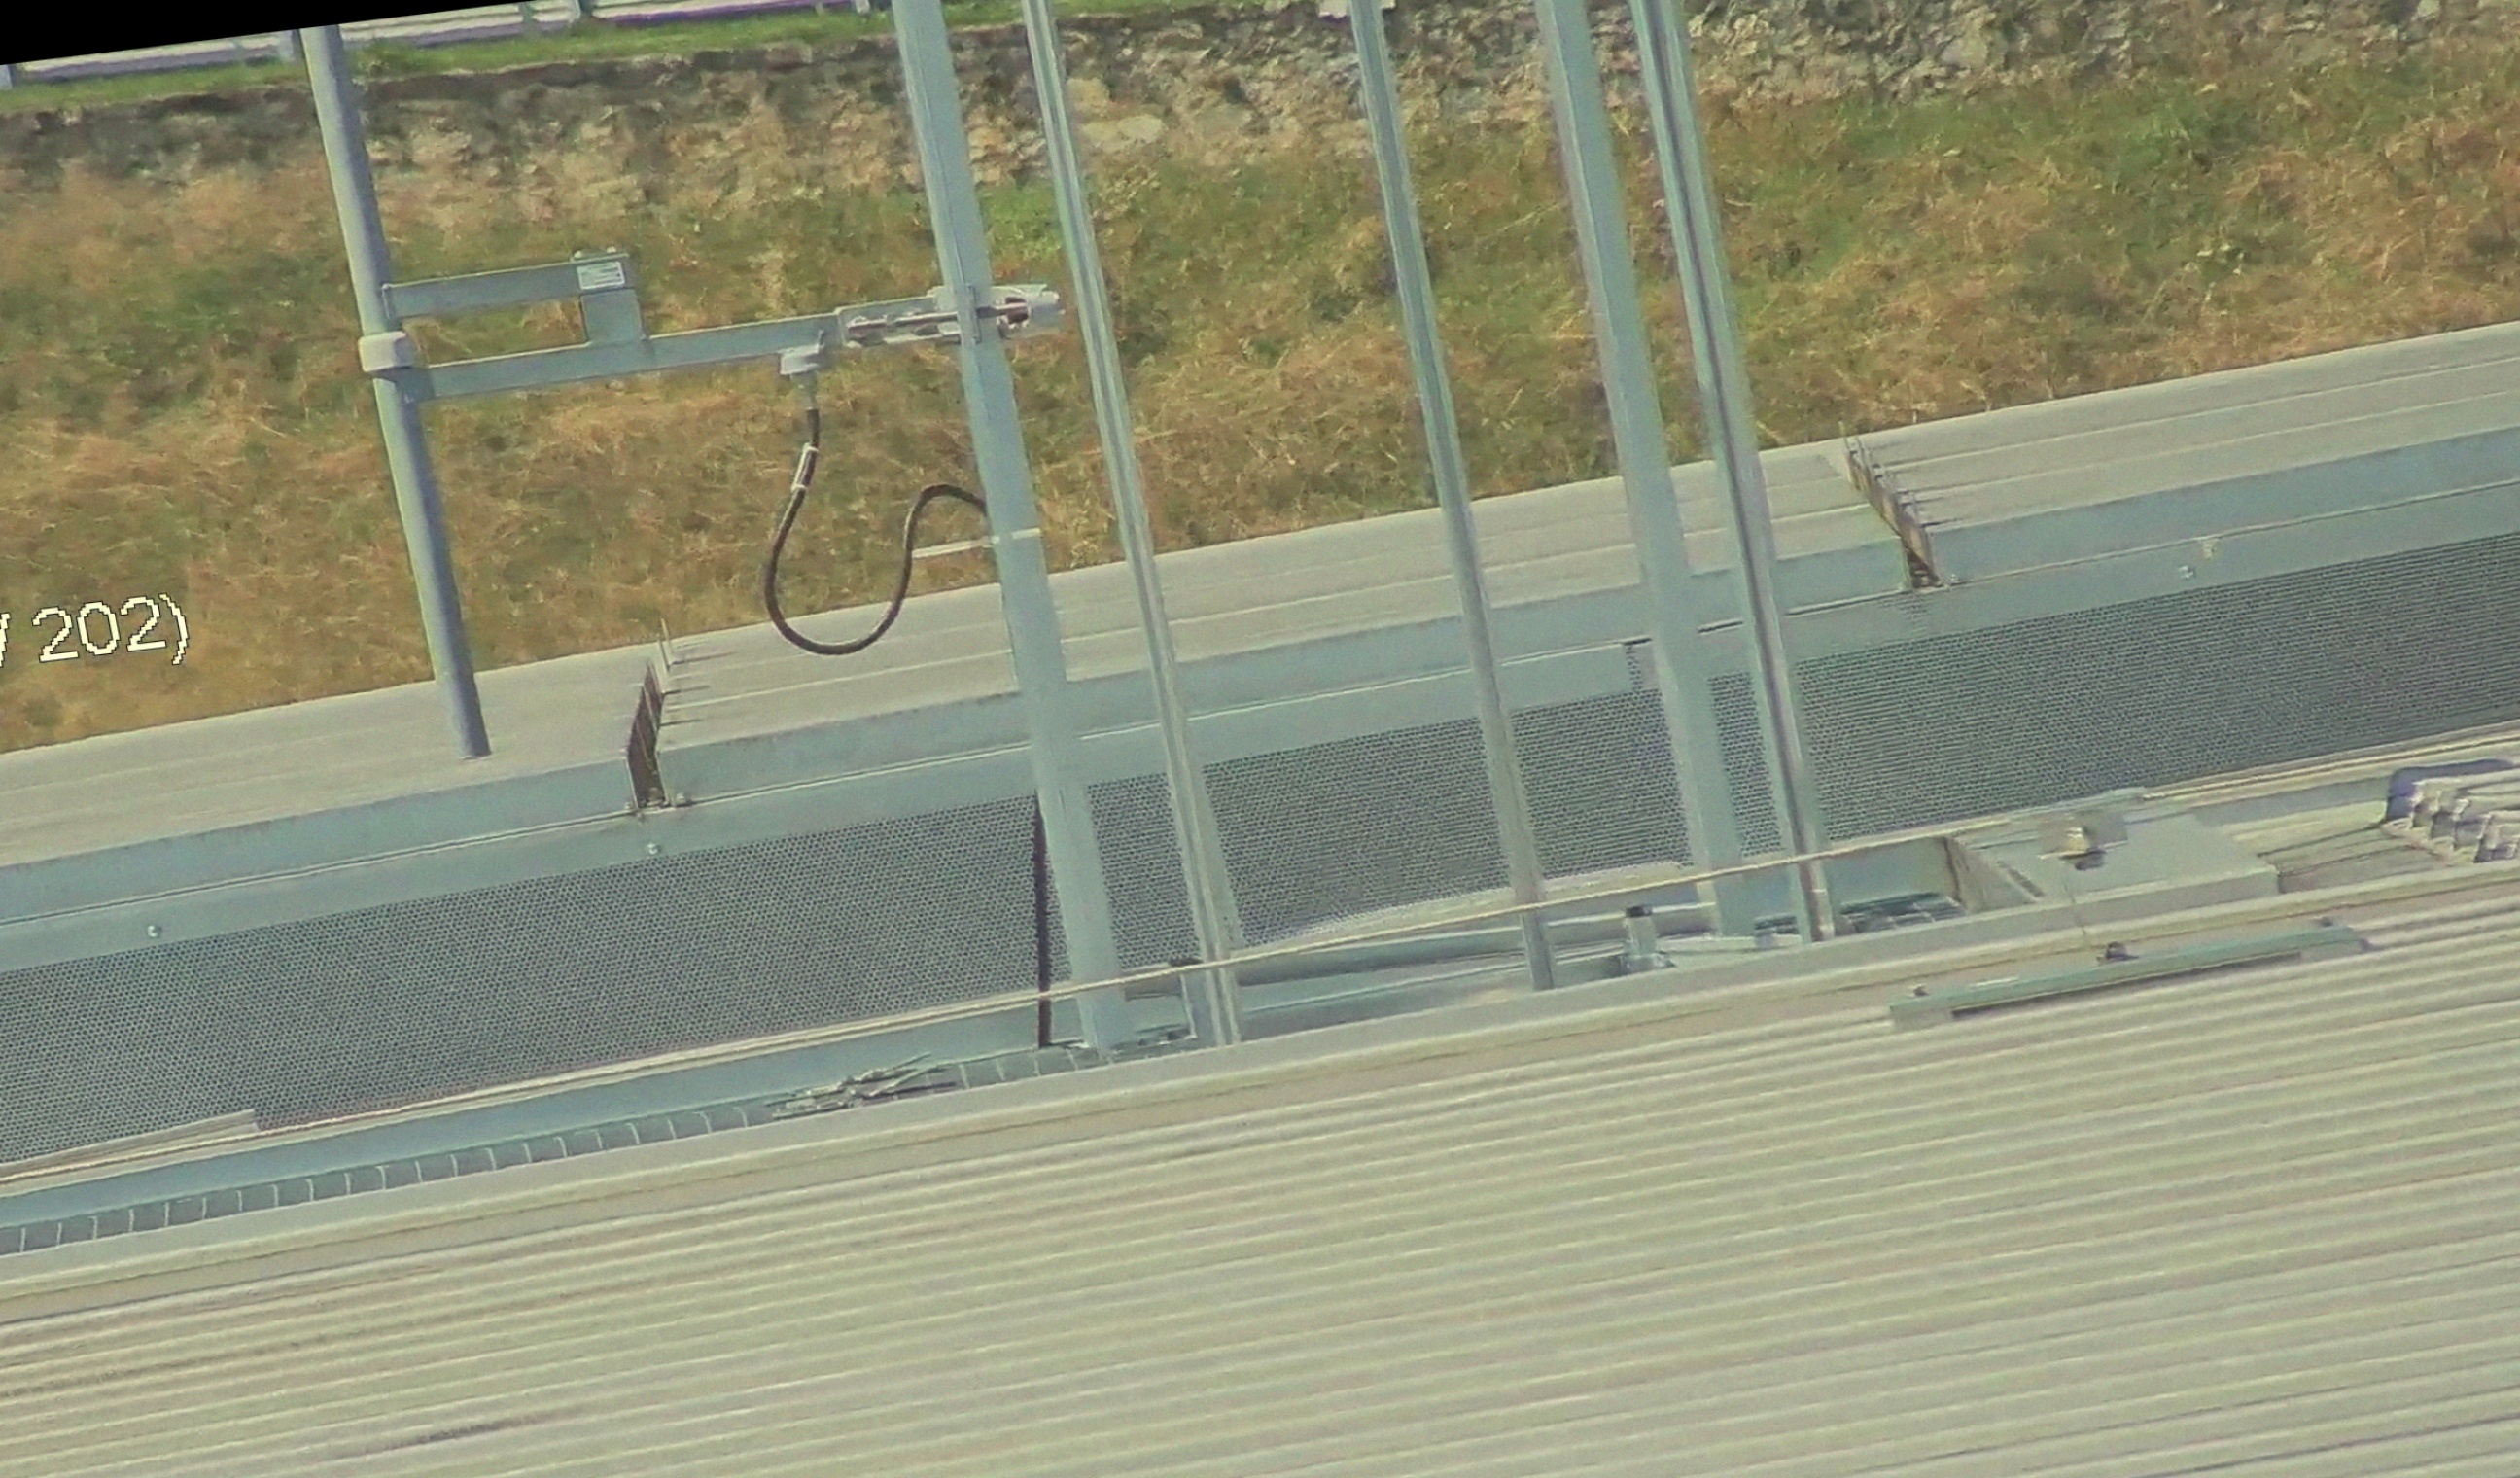Other: (575, 644, 705, 822), (1908, 487, 1998, 639)
